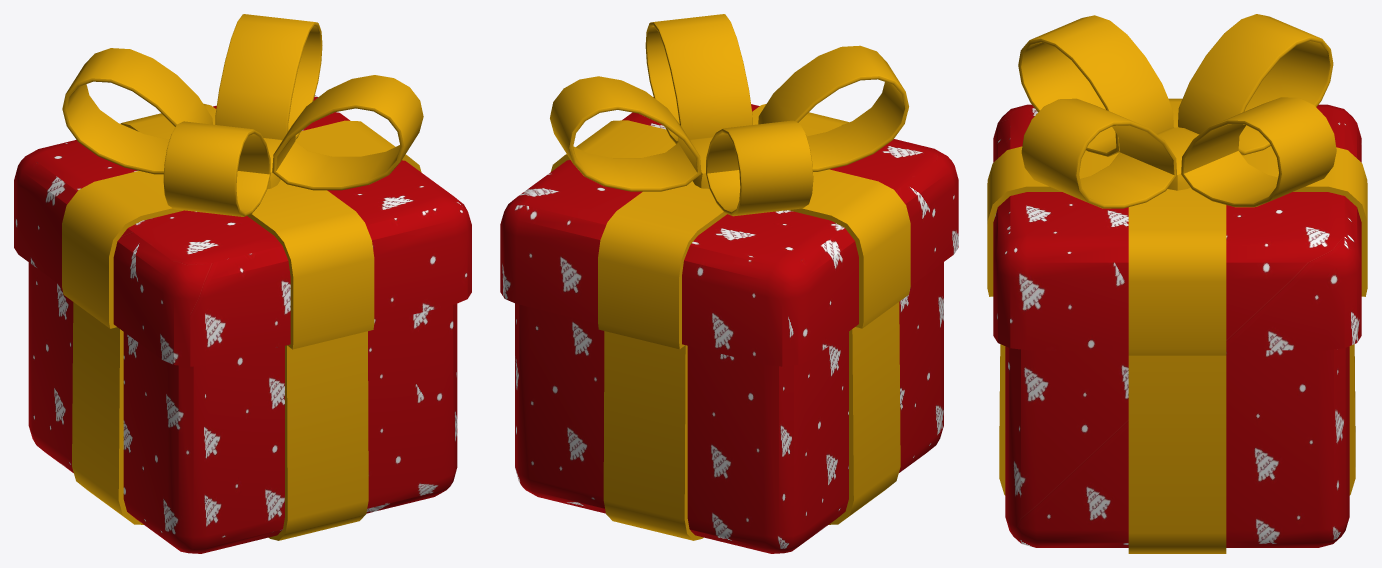
Rendered from gift_box4.fbx.
3 renders of one model, left to right at view 1: azimuth 30°, elevation 25°; view 2: azimuth 150°, elevation 25°; view 3: azimuth 270°, elevation 25°, orthographic. The views are drawn at different scales.
Parts seen in each view (by area): view 1: Gift_box 4; view 2: Gift_box 4; view 3: Gift_box 4.
Part boxes in pixels (bbox=[...]): Gift_box 4: bbox=[14, 14, 471, 553]; Gift_box 4: bbox=[500, 14, 958, 553]; Gift_box 4: bbox=[987, 14, 1367, 553].
Size of the model in its own units: 206 by 252 by 206.
Materials: 2 (1 with a texture image).
